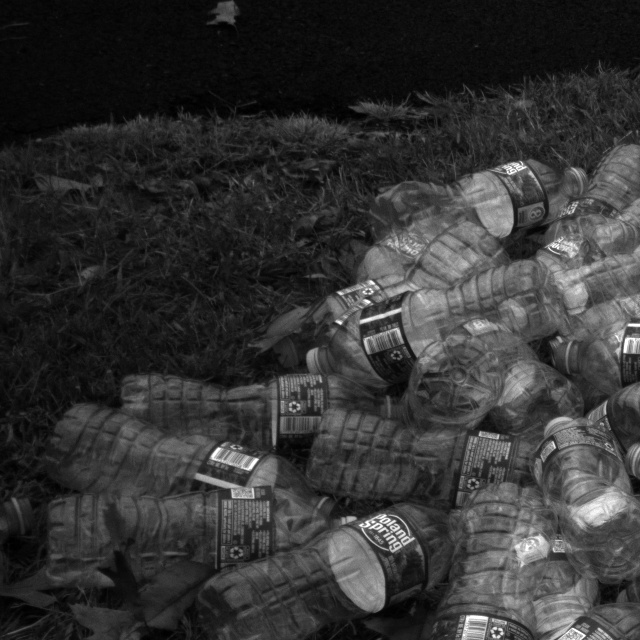bottle: (199, 492, 465, 640), (48, 394, 329, 532), (301, 257, 565, 386), (48, 485, 349, 591), (314, 408, 579, 512), (113, 369, 398, 458), (414, 477, 552, 640), (525, 412, 640, 586), (365, 162, 584, 251), (517, 211, 640, 337), (417, 588, 640, 640), (561, 323, 640, 402), (570, 135, 640, 219)
